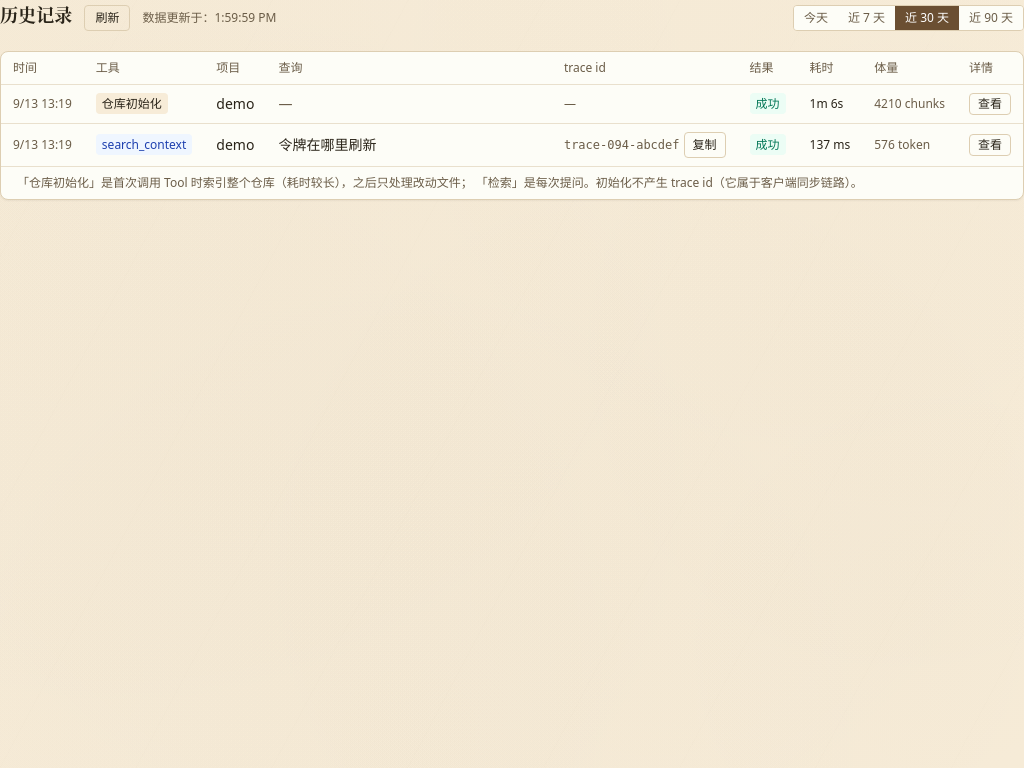
Test: §需求2 合并表格（TASK-100） › 弹窗标题不重复输入内容（用户：太长了）
The image size is (1024, 768).
Click the button "查看" in the row of "search_context". click: (990, 145)
box: x1=969 y1=134 x2=1011 y2=156
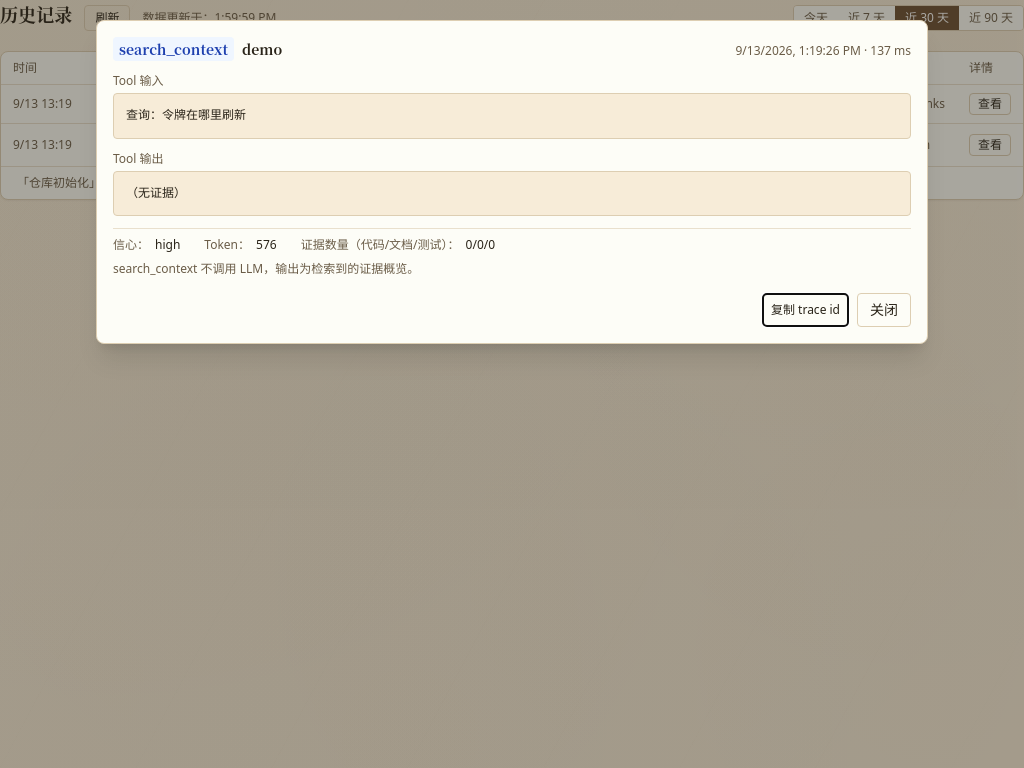
Expected: the heading does not show "令牌在哪里刷新"
Expected: the heading shows "search_context", x1=119 y1=39 x2=228 y2=59
Expected: the heading shows "demo", x1=242 y1=39 x2=282 y2=59
